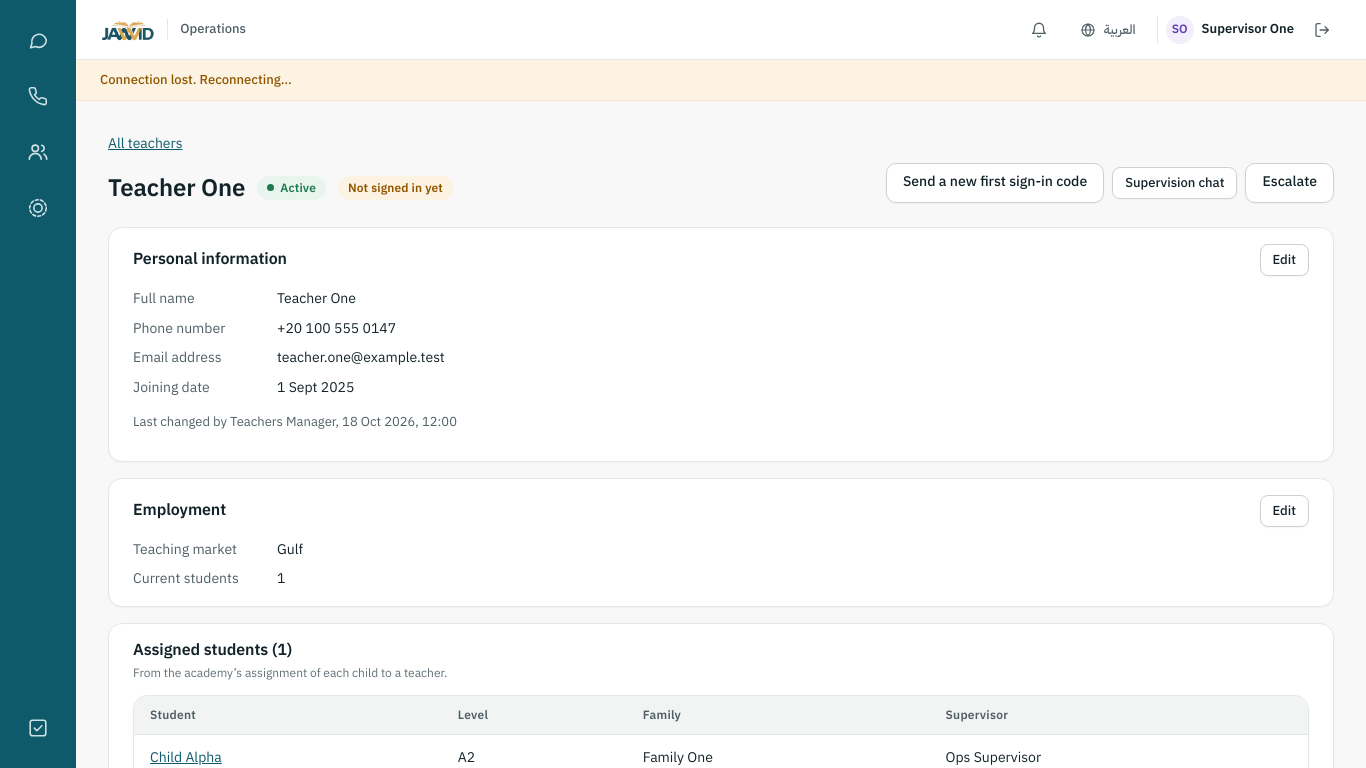
Test: a new first sign-in code › a supervisor sends one but never sees it: e-mailed, or ask the Manager
Step 1. Click the button "Send a new first sign-in code" → {"x": 995, "y": 183}, box [886,163,1104,203]
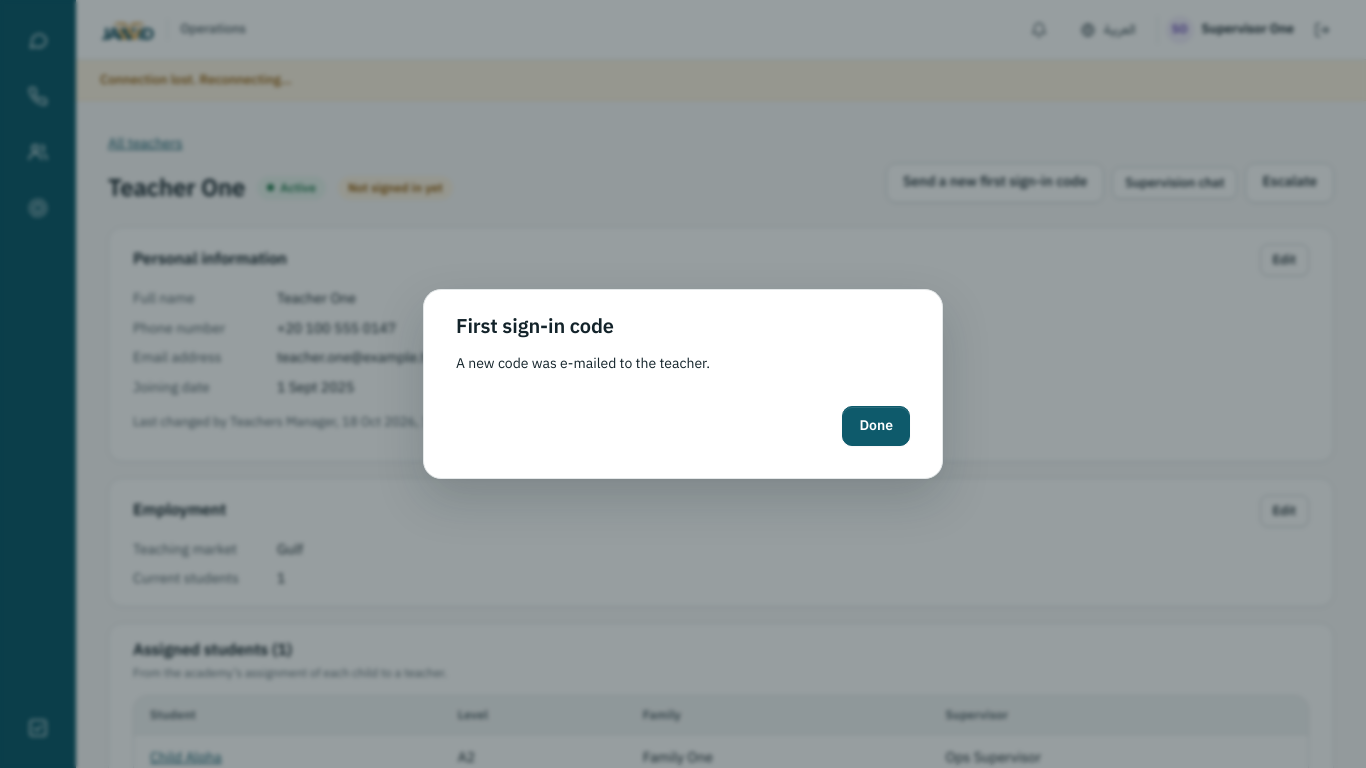
Check: the text "A new code was e-mailed to the teacher." is shown, box [456,353,710,374]
Step 2. Click the button "Done" → {"x": 876, "y": 426}, box [842,406,910,446]
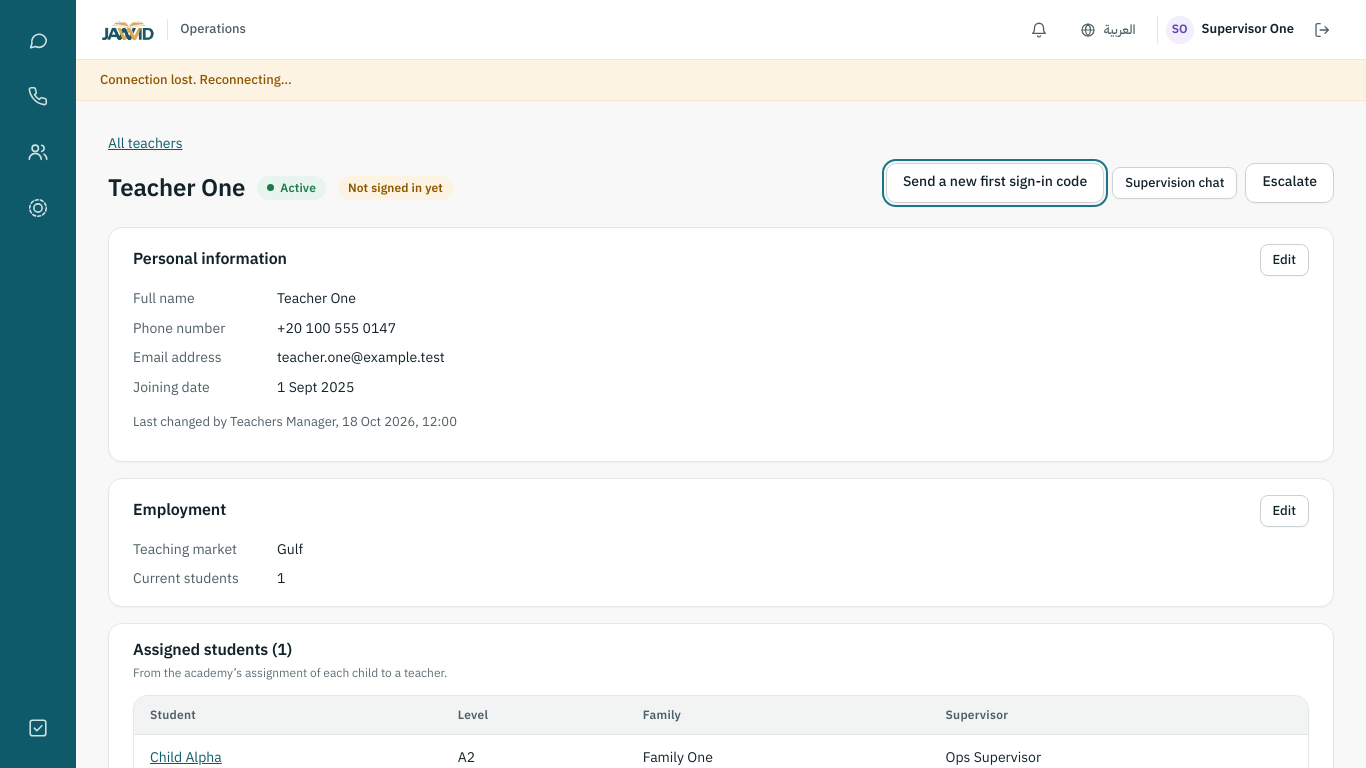
Step 3. Click the button "Send a new first sign-in code" → {"x": 995, "y": 183}, box [886,163,1104,203]
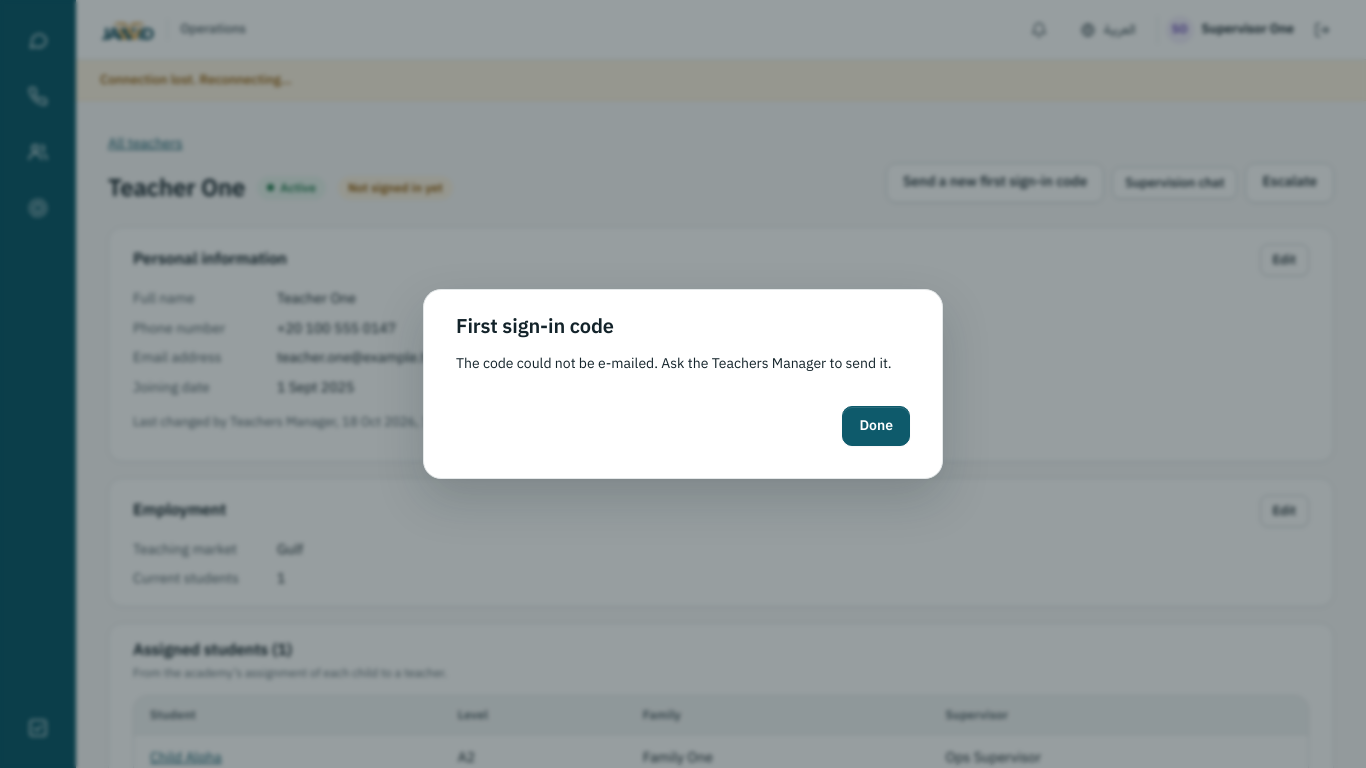
Check: the text "The code could not be e-mailed. Ask the Teachers Manager to send it." is shown, box [456,353,910,374]
